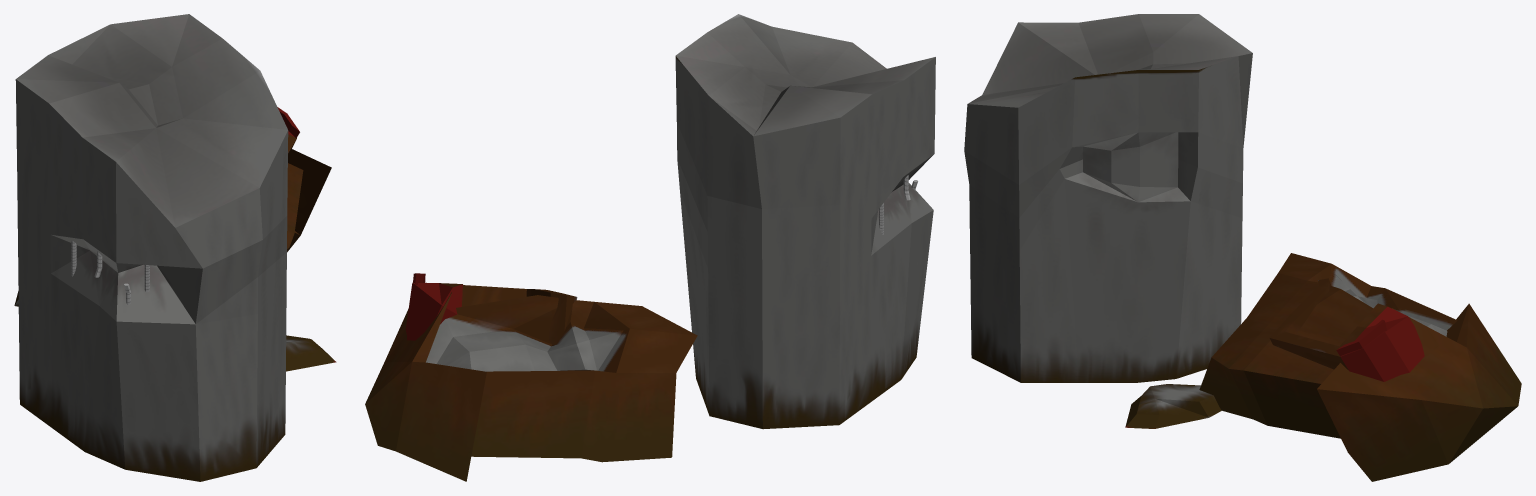
The model's file is TorresRuinas2.fbx.
3 views of the same model, side by side, from view 1: azimuth 30°, elevation 25°; view 2: azimuth 150°, elevation 25°; view 3: azimuth 270°, elevation 25° (orthographic). The views are drawn at different scales.
Visible parts, largest first — view 1: LOD_0; view 2: LOD_0; view 3: LOD_0.
Boxes of the visible parts, x1,y1,x2,y2 form: LOD_0: (14,14,336,481); LOD_0: (365,14,935,481); LOD_0: (964,14,1521,481).
Size of what is drawn, in the model's own units: 861 by 793 by 1207.
